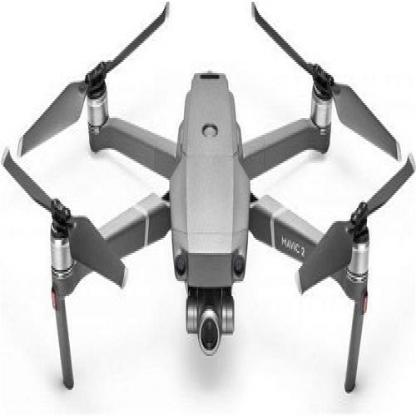drone: (9, 28, 407, 349)
